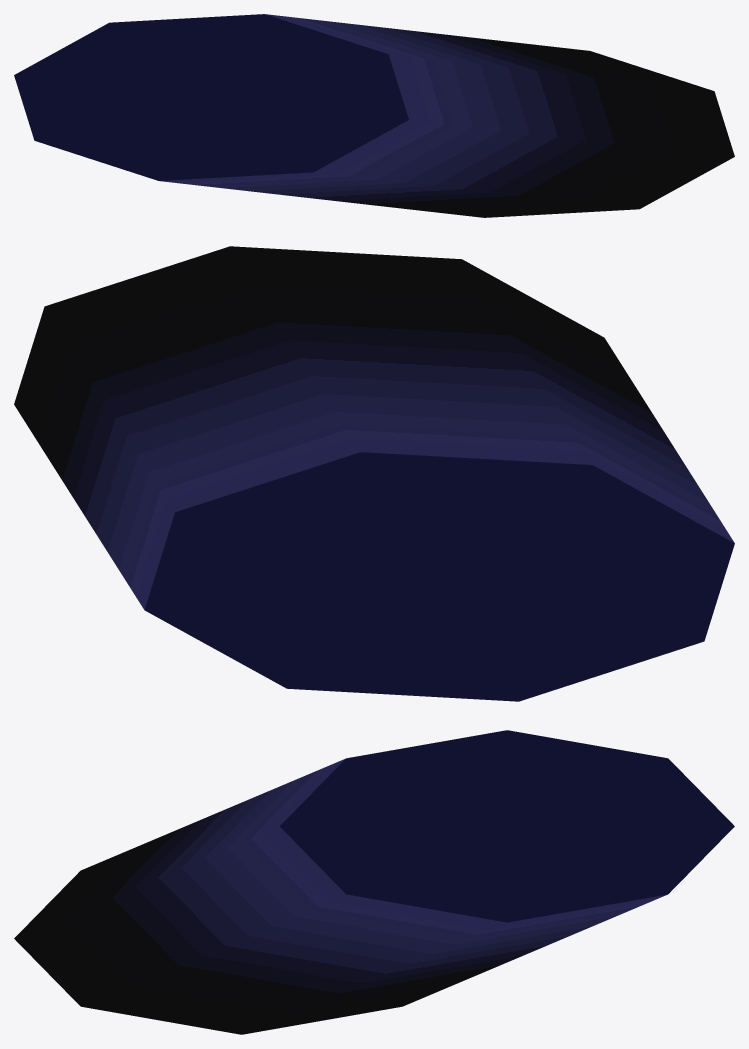
3 renders of one model, top to bottom at view 1: azimuth 30°, elevation 25°; view 2: azimuth 150°, elevation 25°; view 3: azimuth 270°, elevation 25°, orthographic. The views are drawn at different scales.
Parts seen in each view (by area): view 1: Joint_0_Object_0; view 2: Joint_0_Object_0; view 3: Joint_0_Object_0.
Boxes of the visible parts, bbox=[...] form: Joint_0_Object_0: bbox=[14, 14, 734, 217]; Joint_0_Object_0: bbox=[14, 246, 734, 701]; Joint_0_Object_0: bbox=[14, 730, 734, 1034].
Size of the model in its own units: 95 by 0 by 95.
Materials: 1 (1 with a texture image).
